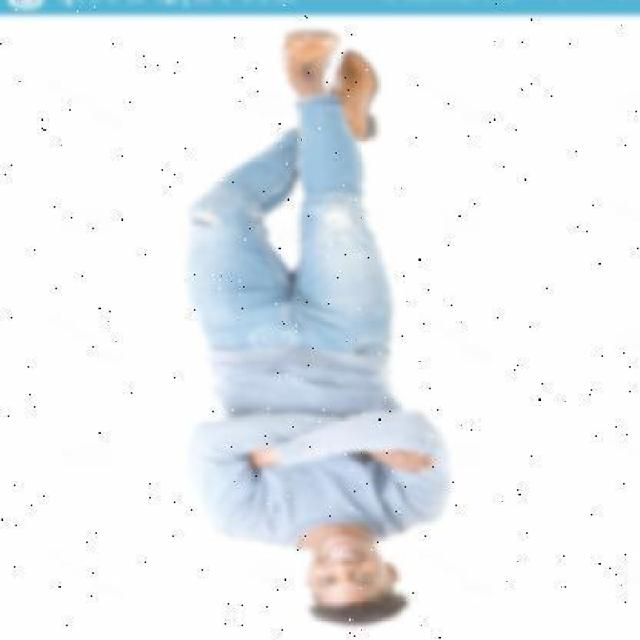person: (182, 30, 452, 627)
